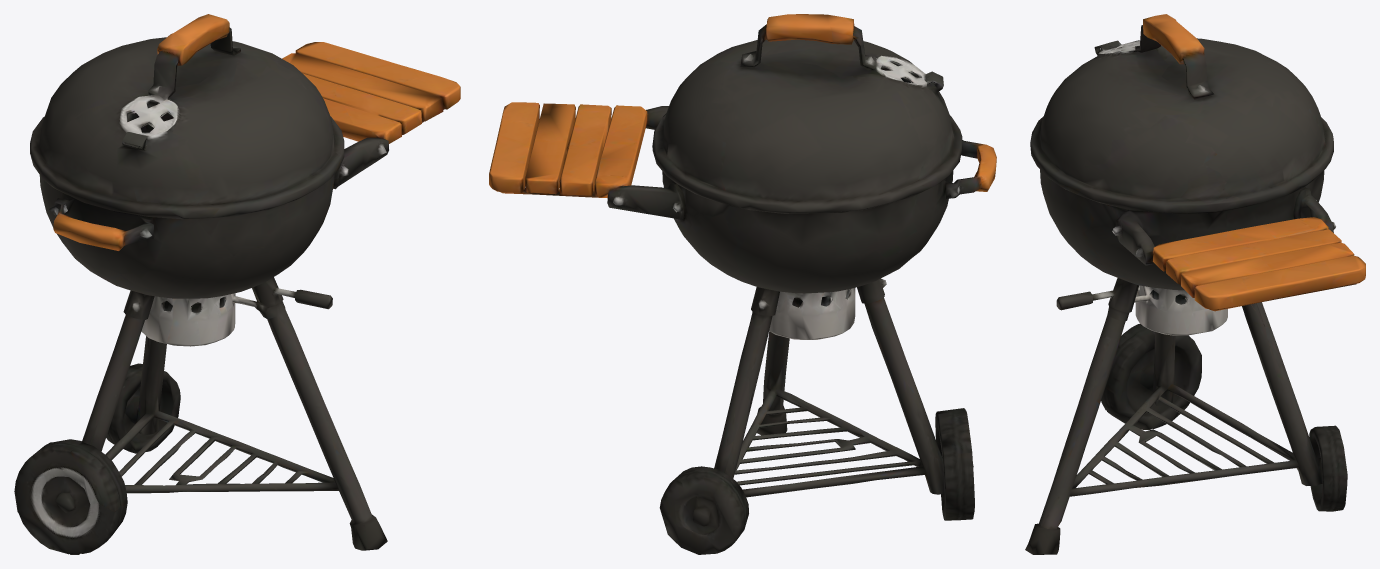
Rendered from bbq.glb.
The picture shows the model from 3 angles, left to right: view 1: azimuth 30°, elevation 25°; view 2: azimuth 150°, elevation 25°; view 3: azimuth 270°, elevation 25°; orthographic projection. The views are drawn at different scales.
Parts seen in each view (by area): view 1: bbq-node; view 2: bbq-node; view 3: bbq-node.
Part boxes in pixels (x1,y1,x2,y2): bbq-node: (14, 14, 460, 554); bbq-node: (489, 14, 996, 554); bbq-node: (1025, 14, 1365, 554).
Bounding box in the file's own units: 0.9703 × 1 × 0.6503.
Materials: 1 (1 with a texture image).
